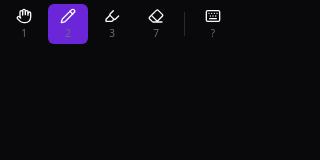
Scenario: AnnotationToolbar › tooltips (AC-4.6.5) › shows tooltip on hover for pen tool
This screenshot has width=320, height=160.
Hover over the button with test id "tool-button-pen": (68, 24) top-left (48, 4), bottom-right (88, 44)
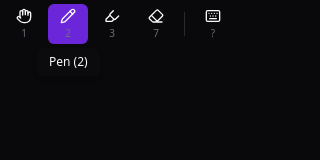
Now the tooltip reads "Pen (2)", box top-left (49, 53), bottom-right (88, 70)
